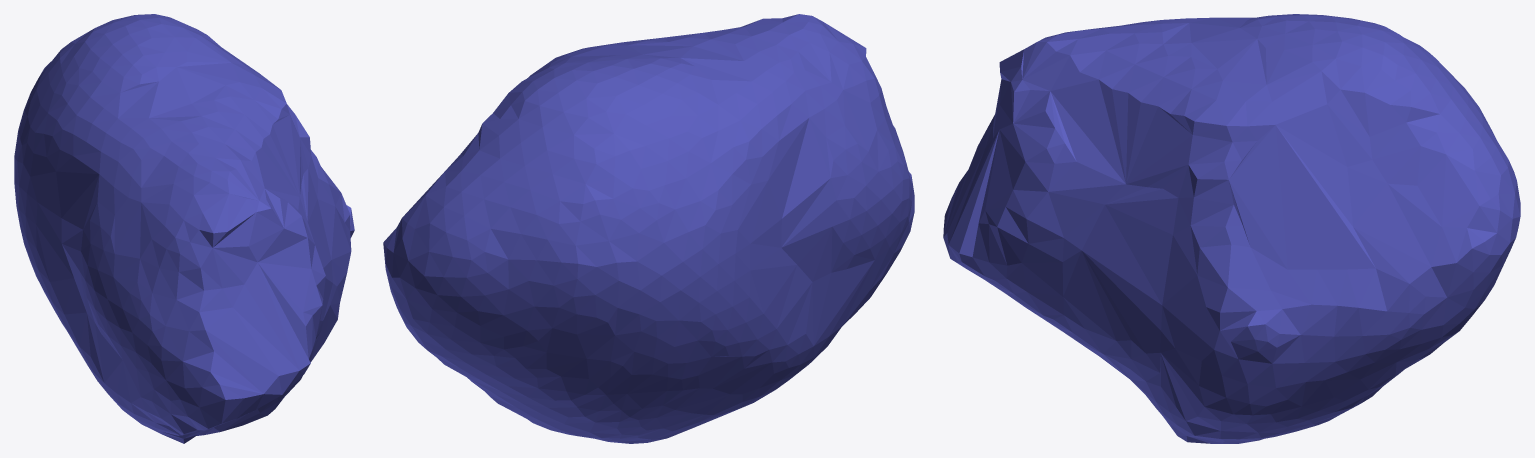
The model's file is Model_379_RH__Medial_preoptic_nucleus_(MPO).obj.
3 views of the same model, side by side, from view 1: azimuth 30°, elevation 25°; view 2: azimuth 150°, elevation 25°; view 3: azimuth 270°, elevation 25° (orthographic). The views are drawn at different scales.
Bounding box in the file's own units: 1.35 × 1.49 × 1.98.
